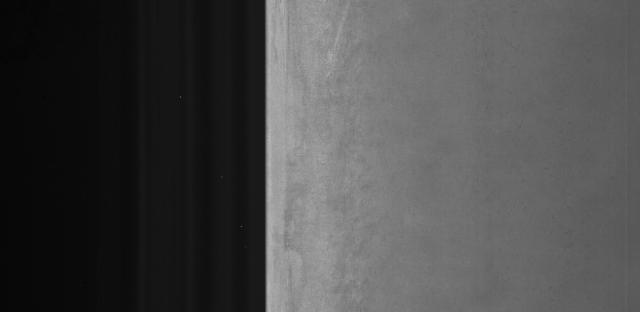silk_spot: (312, 4, 386, 240)
